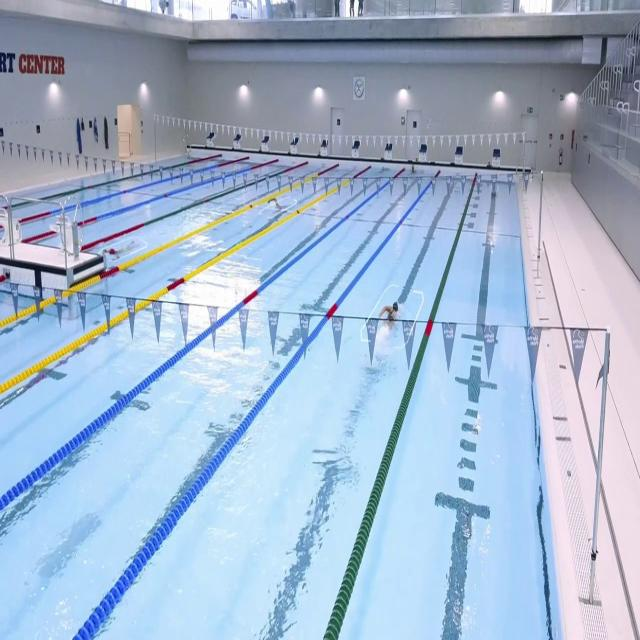Swimming: (378, 300, 401, 342), (103, 240, 141, 258), (268, 199, 290, 214)
